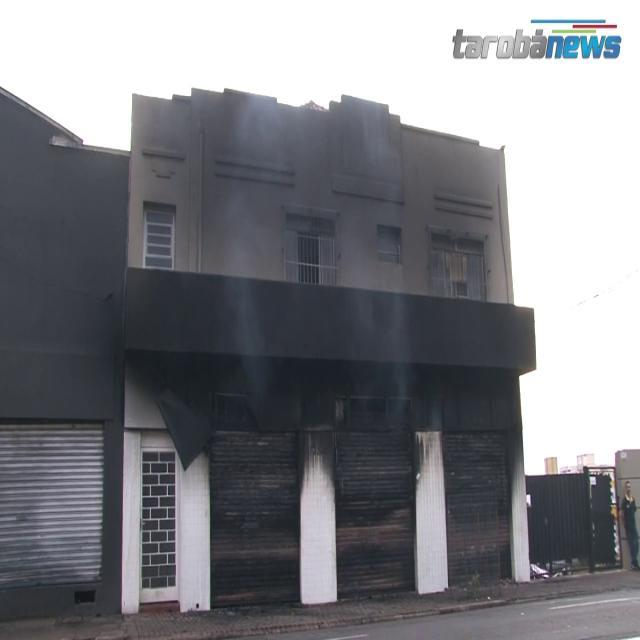Smoke: (331, 111, 415, 435), (221, 98, 291, 436)
